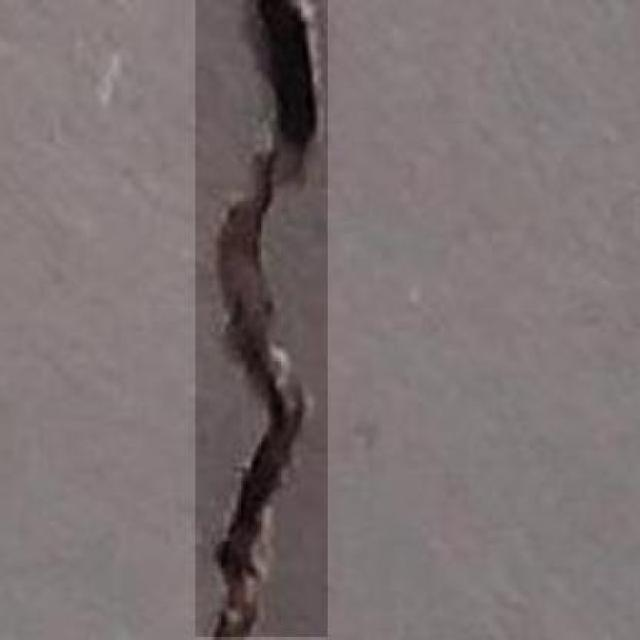Crack: (194, 3, 337, 640)
